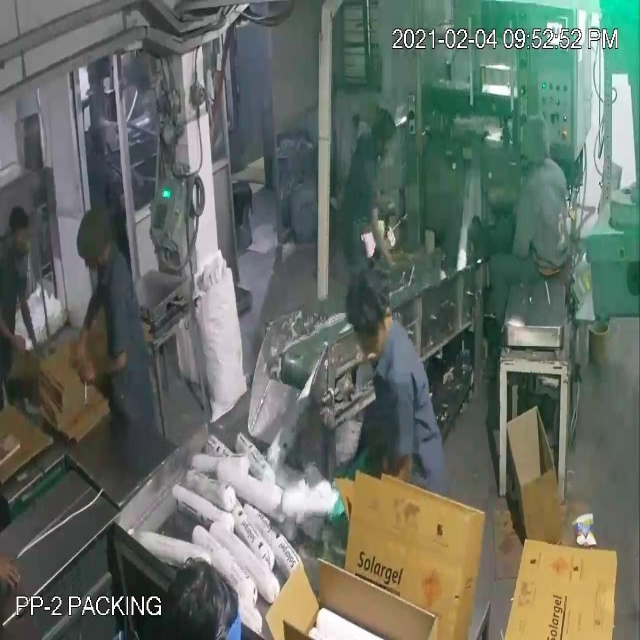Sin_guantes: (71, 326, 136, 395), (17, 287, 49, 368), (67, 302, 102, 372), (0, 315, 33, 384), (366, 198, 394, 276)
